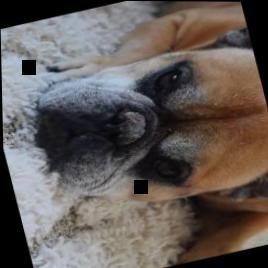keratosis: (108, 103, 154, 149)
